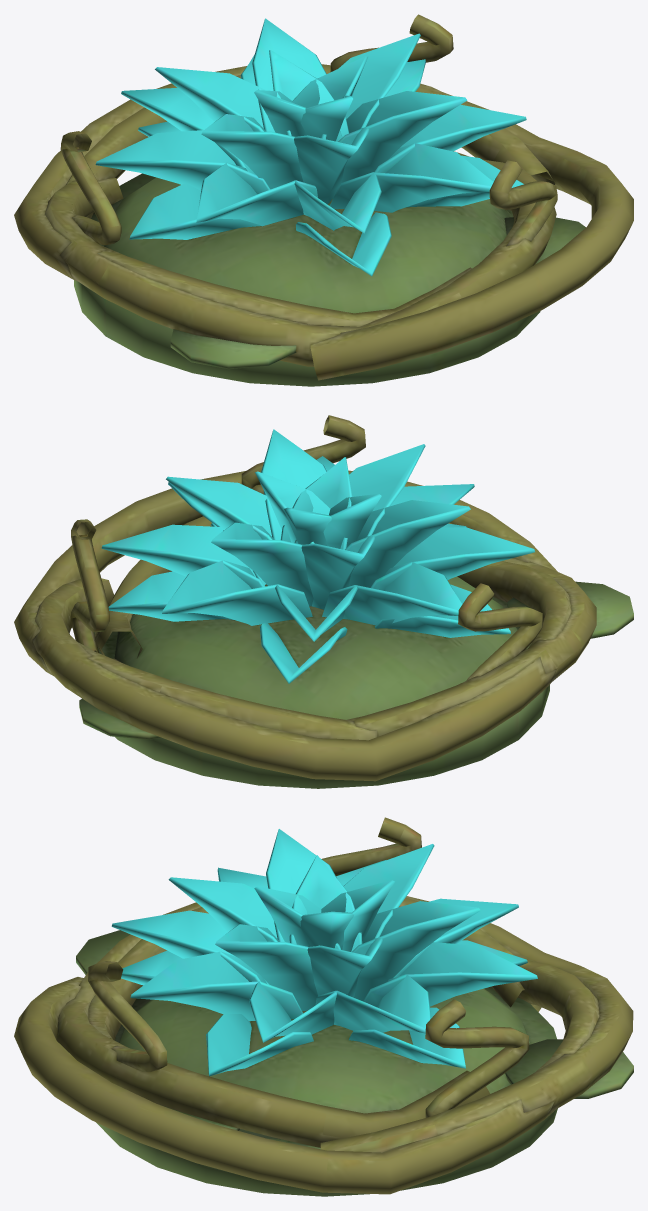
File: lotus_shrine.glb
3 renders of one model, top to bottom at view 1: azimuth 30°, elevation 25°; view 2: azimuth 150°, elevation 25°; view 3: azimuth 270°, elevation 25°, orthographic. The views are drawn at different scales.
Visible parts, largest first — view 1: lotus_shrine.001; view 2: lotus_shrine.001; view 3: lotus_shrine.001.
Boxes of the visible parts, x1=… form: lotus_shrine.001: x1=14, y1=14, x2=633, y2=386; lotus_shrine.001: x1=14, y1=415, x2=633, y2=788; lotus_shrine.001: x1=14, y1=817, x2=633, y2=1196.
Size of the model in its own units: 1.27 by 0.5743 by 1.31.
Materials: 1 (1 with a texture image).
